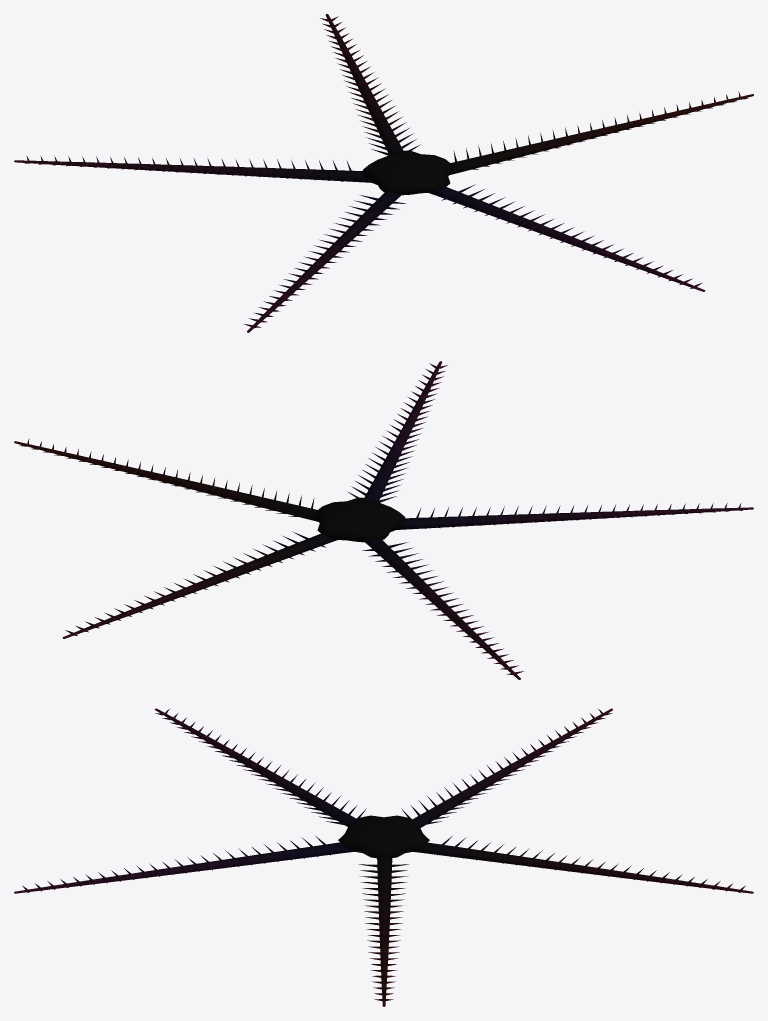
File: brittle_star.glb
The picture shows the model from 3 angles, top to bottom: view 1: azimuth 30°, elevation 25°; view 2: azimuth 150°, elevation 25°; view 3: azimuth 270°, elevation 25°; orthographic projection. The views are drawn at different scales.
Parts seen in each view (by area): view 1: Arms, Body; view 2: Arms, Body; view 3: Arms, Body.
Boxes of the visible parts, x1,y1,x2,y2 form: Arms: (14,14,753,332); Body: (362,150,453,195); Arms: (14,361,753,679); Body: (314,497,405,542); Arms: (14,708,753,1006); Body: (338,815,429,858).
Bounding box in the file's own units: 0.9069 × 0.0301 × 0.9533.
1 material, 1 textured.
